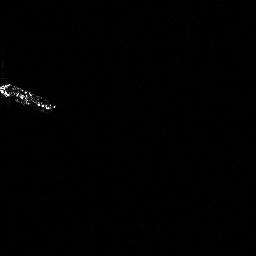ship: (1, 77, 58, 117)
